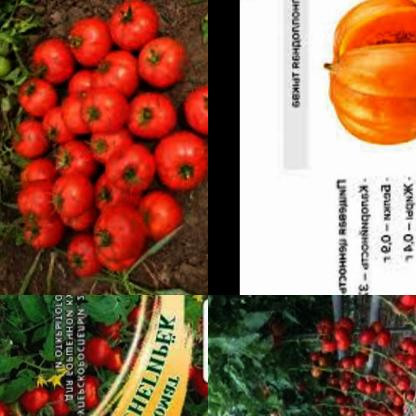pumpkin: (320, 0, 416, 148), (380, 0, 416, 70)
tomato: (0, 383, 131, 416), (146, 134, 208, 195), (86, 323, 141, 388), (88, 207, 142, 265), (132, 37, 184, 95), (311, 311, 370, 358), (102, 141, 153, 192), (107, 0, 156, 50), (130, 193, 182, 240), (25, 37, 72, 87), (9, 180, 58, 224), (92, 53, 142, 95), (129, 94, 171, 143), (66, 17, 106, 68), (76, 89, 122, 132), (43, 178, 90, 220), (304, 347, 358, 383), (18, 212, 63, 254), (7, 117, 50, 160), (90, 173, 134, 215), (81, 130, 129, 166), (60, 239, 98, 284), (332, 387, 390, 416), (180, 82, 208, 141), (383, 332, 416, 382), (12, 76, 53, 116), (346, 354, 379, 401), (53, 145, 92, 184), (40, 107, 72, 145), (377, 377, 414, 407), (356, 319, 389, 352), (17, 161, 51, 191), (390, 295, 416, 320)
